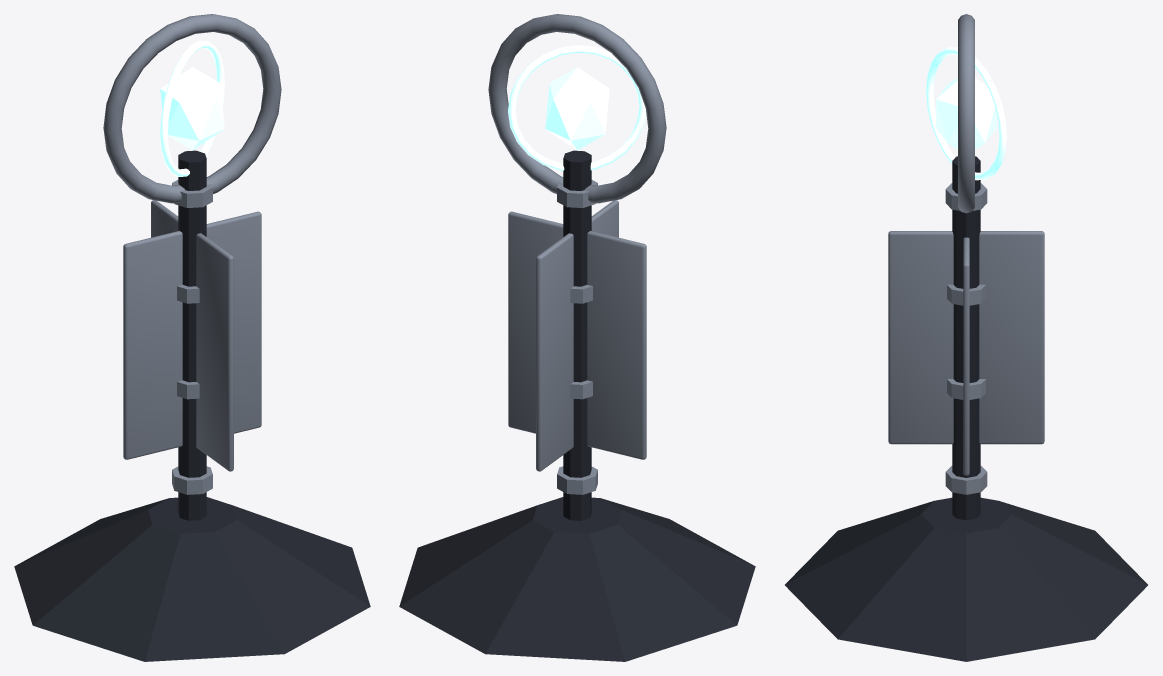
File: relay_beacon.glb
The picture shows the model from 3 angles, left to right: view 1: azimuth 30°, elevation 25°; view 2: azimuth 150°, elevation 25°; view 3: azimuth 270°, elevation 25°; orthographic projection.
Parts seen in each view (by area): view 1: Base, Vane2, Ring, Vane3, Vane0, Spine, Core, Ring2, Band-12, Vane1, Band12; view 2: Base, Vane2, Ring, Vane1, Vane0, Spine, Core, Ring2, Band-12, Vane3, Band12; view 3: Base, Vane1, Vane3, Spine, Ring, Core, Ring2, Vane0, Band-12, Band4, Band-4, Band12.
Part boxes in pixels (x1,y1,x2,y2): Base: [14, 497, 370, 661]; Vane2: [123, 231, 182, 459]; Ring: [103, 14, 281, 203]; Vane3: [196, 233, 233, 471]; Vane0: [206, 211, 261, 433]; Spine: [178, 150, 206, 520]; Core: [160, 67, 224, 150]; Ring2: [160, 40, 224, 176]; Band-12: [172, 466, 212, 494]; Vane1: [151, 200, 178, 237]; Band12: [172, 180, 212, 207]; Base: [399, 497, 755, 661]; Vane2: [587, 231, 646, 459]; Ring: [488, 14, 666, 203]; Vane1: [536, 233, 573, 471]; Vane0: [508, 211, 563, 433]; Spine: [563, 150, 591, 520]; Core: [545, 67, 609, 150]; Ring2: [508, 45, 646, 170]; Band-12: [557, 466, 597, 494]; Vane3: [591, 200, 618, 237]; Band12: [557, 180, 597, 207]; Base: [785, 497, 1147, 661]; Vane1: [979, 231, 1044, 444]; Vane3: [888, 231, 953, 444]; Spine: [952, 156, 980, 520]; Ring: [958, 14, 974, 213]; Core: [936, 78, 996, 149]; Ring2: [926, 47, 1006, 180]; Vane0: [963, 237, 969, 475]; Band-12: [945, 466, 987, 494]; Band4: [947, 284, 985, 305]; Band-4: [947, 379, 985, 399]; Band12: [945, 183, 987, 210].
Bounding box in the file's own units: 28 × 47.7 × 28.
